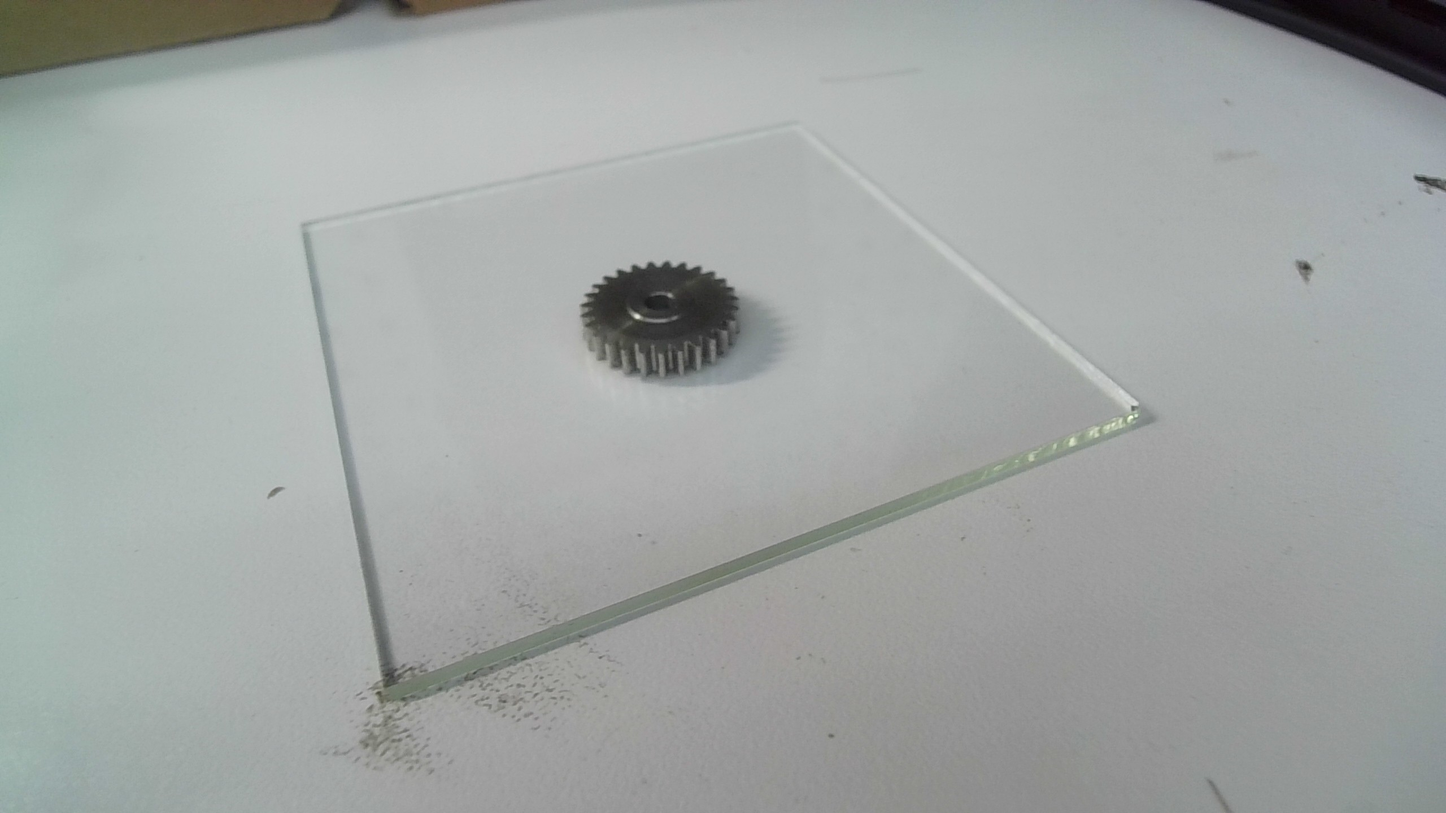gear: (575, 257, 744, 384)
